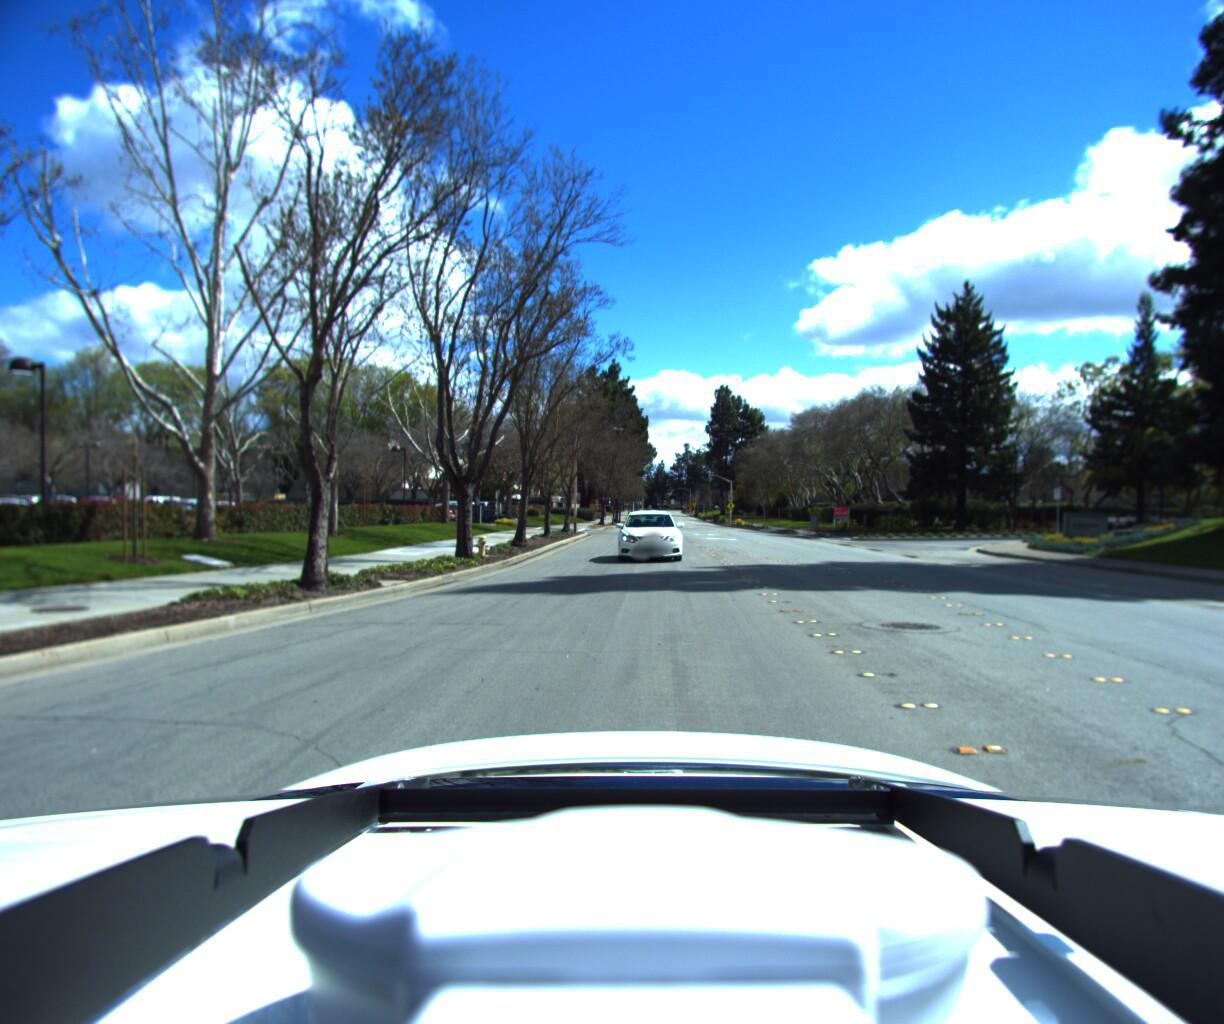car: (616, 515, 682, 573)
